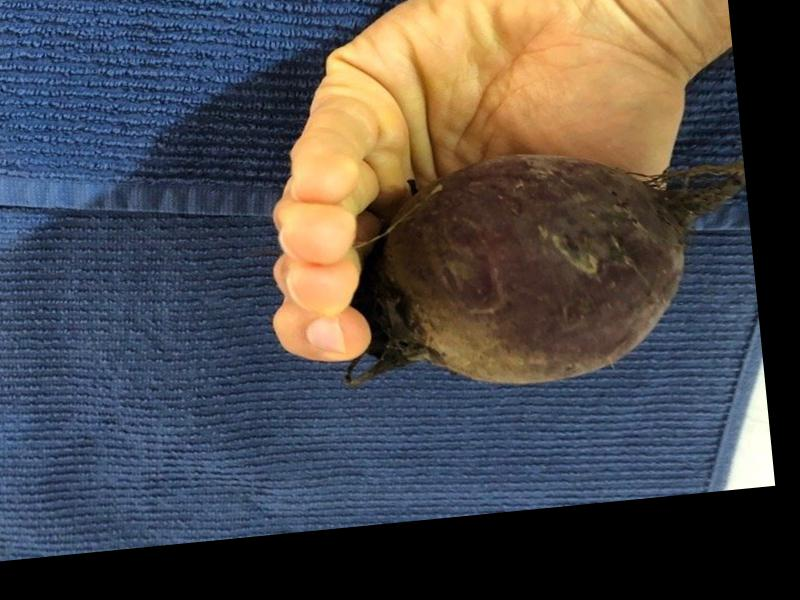Beet: (319, 132, 758, 400)
